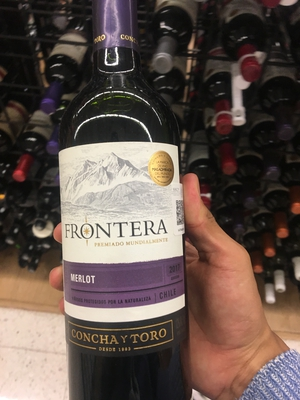frontera merlot: (57, 5, 218, 400)
